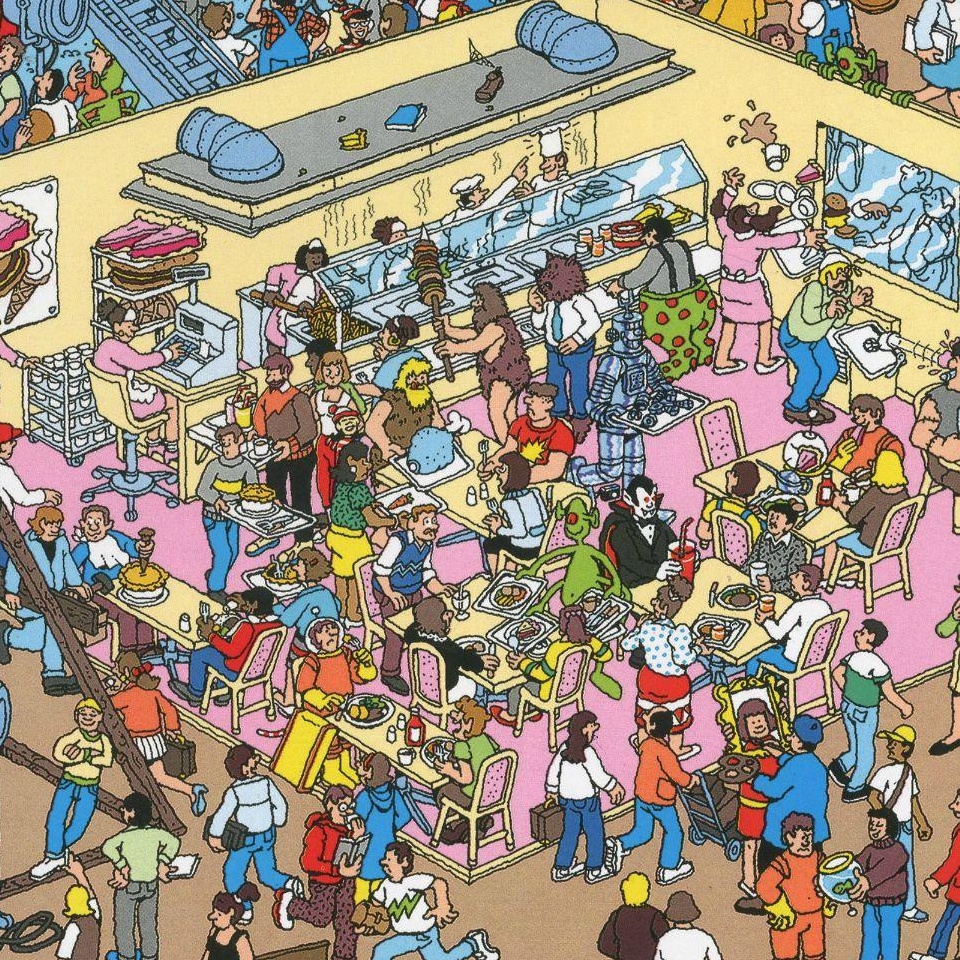waldo: (645, 0, 681, 7)
